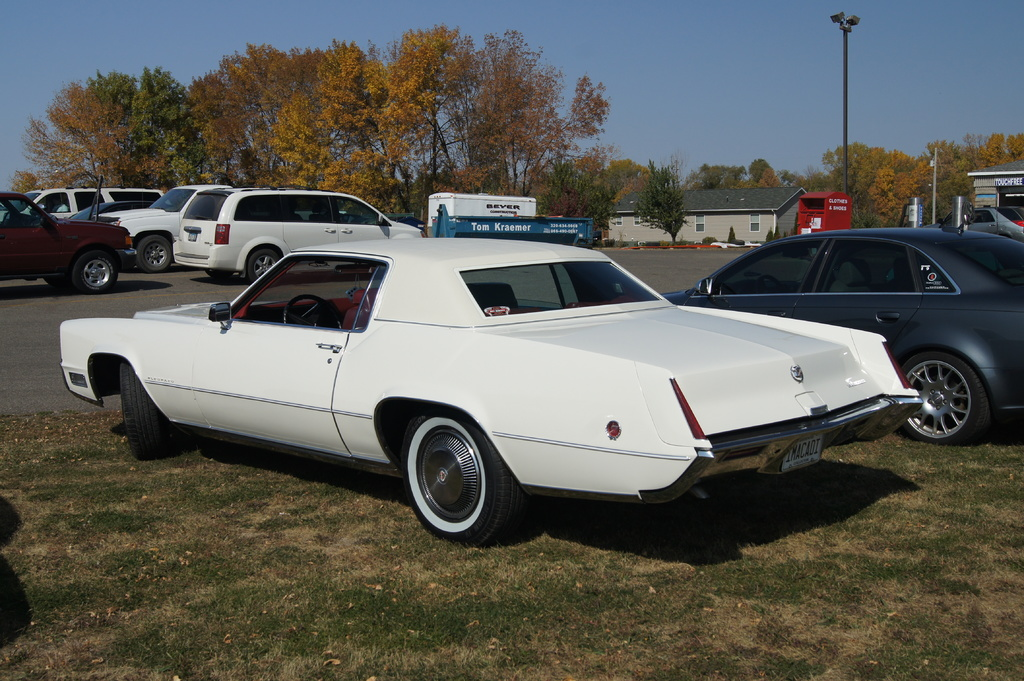mobil: (68, 240, 930, 546)
